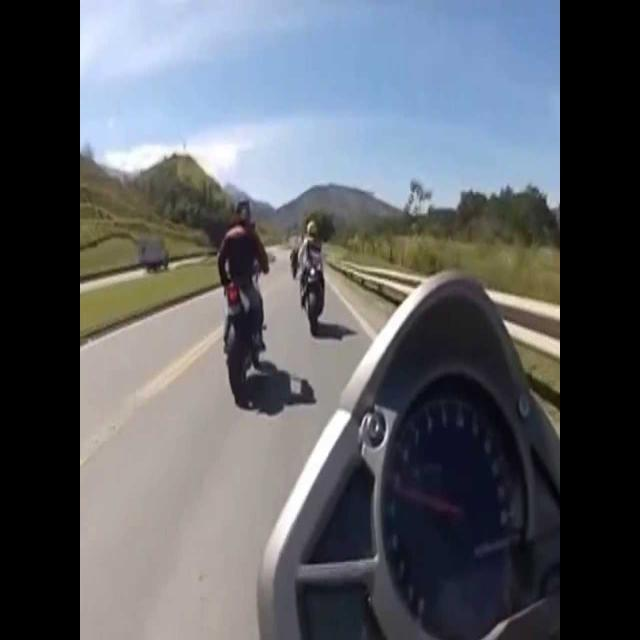MOTORCYCLE: (221, 260, 261, 408), (300, 246, 324, 340)
